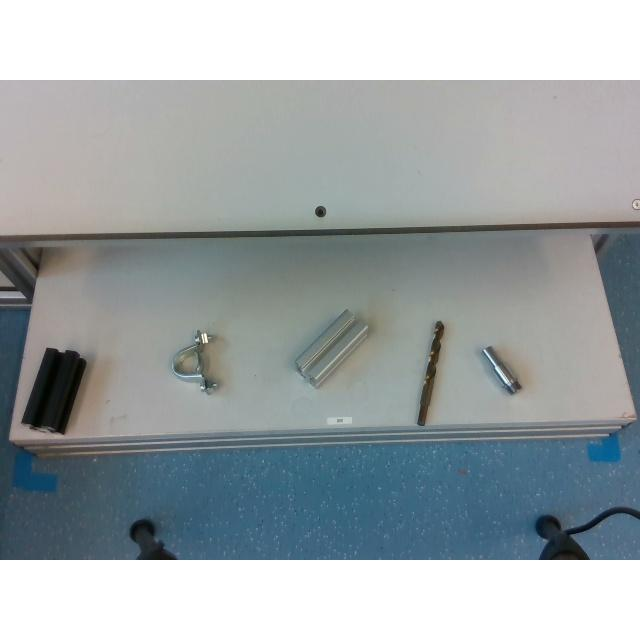Axis2: (481, 344, 523, 396)
Drill: (415, 321, 445, 427)
Housing: (172, 331, 220, 391)
S40_40_B: (22, 348, 86, 432)
S40_40_G: (296, 310, 368, 386)
